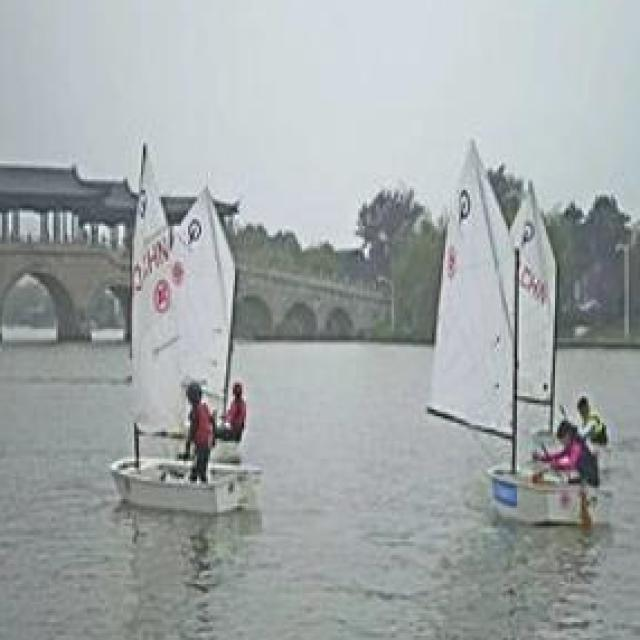sailboat: (431, 139, 596, 527), (104, 129, 254, 518), (508, 188, 620, 489), (184, 164, 274, 493)
